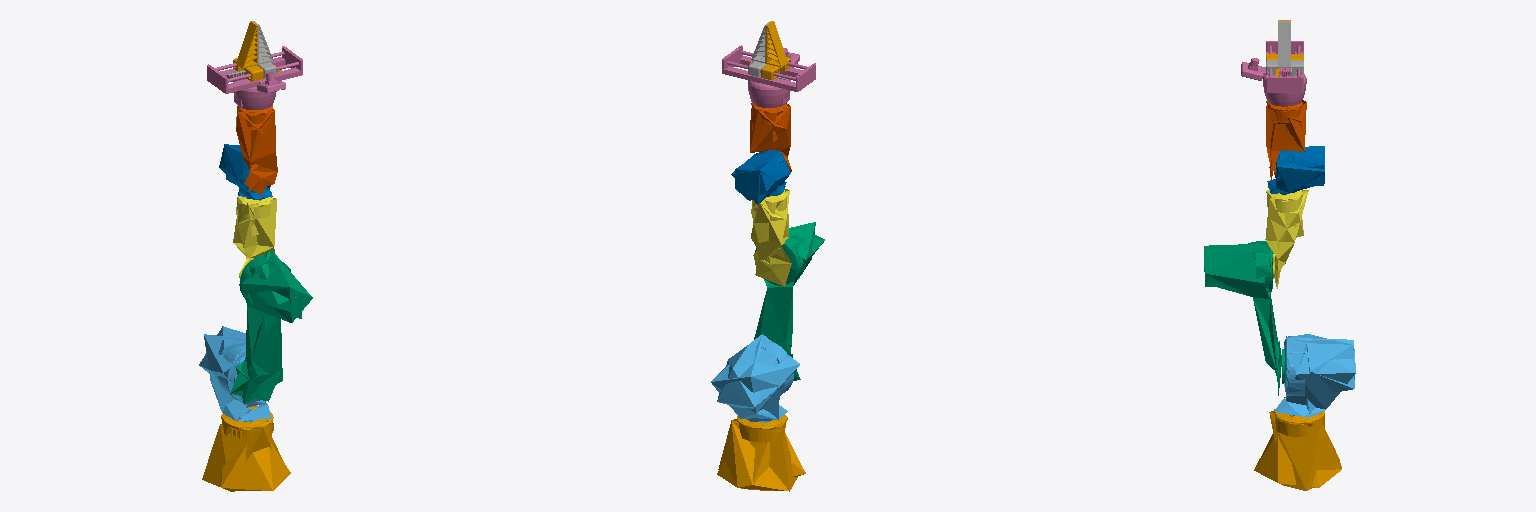
robot.urdf — grip:
<?xml version="1.0"?>
<!-- Generated by cad/urdf.py from the GRIP CAD. Do not edit by hand. -->
<robot name="grip">
  <link name="base_link">
    <inertial><origin xyz="1.29996e-05 -2.06403e-05 0.0679574"/><mass value="0.9536"/>
      <inertia ixx="0.00129185" ixy="-1.858e-07" ixz="2.82899e-06" iyy="0.00129247" iyz="3.15067e-06" izz="0.000925925"/></inertial>
    <visual><origin xyz="-0 -0 -0"/><geometry><mesh filename="meshes/base_link.stl" scale="0.001 0.001 0.001"/></geometry></visual>
    <collision><origin xyz="-0 -0 -0"/><geometry><mesh filename="meshes/base_link.stl" scale="0.001 0.001 0.001"/></geometry></collision>
  </link>
  <link name="turret">
    <inertial><origin xyz="0.00010235 0.0197137 0.195869"/><mass value="1.4109"/>
      <inertia ixx="0.00223301" ixy="4.1106e-06" ixz="-6.31158e-07" iyy="0.00195646" iyz="-0.00010455" izz="0.0017922"/></inertial>
    <visual><origin xyz="-0 -0 -0"/><geometry><mesh filename="meshes/turret.stl" scale="0.001 0.001 0.001"/></geometry></visual>
    <collision><origin xyz="-0 -0 -0"/><geometry><mesh filename="meshes/turret.stl" scale="0.001 0.001 0.001"/></geometry></collision>
  </link>
  <link name="upper_arm">
    <inertial><origin xyz="2.40801e-05 -0.0522133 0.163299"/><mass value="1.0554"/>
      <inertia ixx="0.00527616" ixy="-1.75393e-08" ixz="-5.92128e-07" iyy="0.00450346" iyz="0.0013512" izz="0.00147447"/></inertial>
    <visual><origin xyz="-0 0.03 -0.2"/><geometry><mesh filename="meshes/upper_arm.stl" scale="0.001 0.001 0.001"/></geometry></visual>
    <collision><origin xyz="-0 0.03 -0.2"/><geometry><mesh filename="meshes/upper_arm.stl" scale="0.001 0.001 0.001"/></geometry></collision>
  </link>
  <link name="forearm">
    <inertial><origin xyz="1.9918e-05 0.0146561 0.0944387"/><mass value="0.4897"/>
      <inertia ixx="0.000839341" ixy="1.38187e-07" ixz="8.10155e-08" iyy="0.000826591" iyz="-0.000108881" izz="0.000233217"/></inertial>
    <visual><origin xyz="-0 0.042 -0.387"/><geometry><mesh filename="meshes/forearm.stl" scale="0.001 0.001 0.001"/></geometry></visual>
    <collision><origin xyz="-0 0.042 -0.387"/><geometry><mesh filename="meshes/forearm.stl" scale="0.001 0.001 0.001"/></geometry></collision>
  </link>
  <link name="wrist_yoke">
    <inertial><origin xyz="2.5881e-05 0.0194151 0.0375499"/><mass value="0.4586"/>
      <inertia ixx="0.000306849" ixy="-5.22134e-08" ixz="2.92491e-07" iyy="0.000245727" iyz="-2.19731e-05" izz="0.000259257"/></inertial>
    <visual><origin xyz="-0 0.025 -0.532"/><geometry><mesh filename="meshes/wrist_yoke.stl" scale="0.001 0.001 0.001"/></geometry></visual>
    <collision><origin xyz="-0 0.025 -0.532"/><geometry><mesh filename="meshes/wrist_yoke.stl" scale="0.001 0.001 0.001"/></geometry></collision>
  </link>
  <link name="wrist_link">
    <inertial><origin xyz="1.02851e-05 0.0170718 0.084359"/><mass value="0.4609"/>
      <inertia ixx="0.00045475" ixy="1.33768e-07" ixz="-8.43876e-08" iyy="0.000448344" iyz="-3.44325e-05" izz="0.000205217"/></inertial>
    <visual><origin xyz="-0 0.043 -0.572"/><geometry><mesh filename="meshes/wrist_link.stl" scale="0.001 0.001 0.001"/></geometry></visual>
    <collision><origin xyz="-0 0.043 -0.572"/><geometry><mesh filename="meshes/wrist_link.stl" scale="0.001 0.001 0.001"/></geometry></collision>
  </link>
  <link name="tool">
    <inertial><origin xyz="-0.00209797 -0.00440401 0.0427588"/><mass value="0.2572"/>
      <inertia ixx="0.000291774" ixy="2.36799e-06" ixz="-1.09405e-05" iyy="0.000469669" iyz="1.76822e-05" izz="0.000476755"/></inertial>
    <visual><origin xyz="-0 0.025 -0.7"/><geometry><mesh filename="meshes/tool.stl" scale="0.001 0.001 0.001"/></geometry></visual>
    <collision><origin xyz="-0 0.025 -0.7"/><geometry><mesh filename="meshes/tool.stl" scale="0.001 0.001 0.001"/></geometry></collision>
  </link>
  <link name="jaw_a">
    <inertial><origin xyz="0.0101033 0.00110157 0.0753741"/><mass value="0.0480"/>
      <inertia ixx="3.8278e-05" ixy="8.82633e-07" ixz="2.16238e-07" iyy="2.61007e-05" iyz="1.05274e-06" izz="2.20661e-05"/></inertial>
    <visual><origin xyz="-0 0.025 -0.7"/><geometry><mesh filename="meshes/jaw_a.stl" scale="0.001 0.001 0.001"/></geometry></visual>
    <collision><origin xyz="-0 0.025 -0.7"/><geometry><mesh filename="meshes/jaw_a.stl" scale="0.001 0.001 0.001"/></geometry></collision>
  </link>
  <link name="jaw_b">
    <inertial><origin xyz="-0.0101033 -0.00110157 0.0753741"/><mass value="0.0480"/>
      <inertia ixx="3.8278e-05" ixy="8.82638e-07" ixz="-2.16238e-07" iyy="2.61007e-05" iyz="-1.05265e-06" izz="2.20661e-05"/></inertial>
    <visual><origin xyz="-0 0.025 -0.7"/><geometry><mesh filename="meshes/jaw_b.stl" scale="0.001 0.001 0.001"/></geometry></visual>
    <collision><origin xyz="-0 0.025 -0.7"/><geometry><mesh filename="meshes/jaw_b.stl" scale="0.001 0.001 0.001"/></geometry></collision>
  </link>
  <joint name="j1" type="revolute">
    <parent link="base_link"/><child link="turret"/>
    <origin xyz="0 0 0"/><axis xyz="0 0 1"/>
    <limit lower="-2.96706" upper="2.96706" effort="13.0" velocity="2.5"/>
  </joint>
  <joint name="j2" type="revolute">
    <parent link="turret"/><child link="upper_arm"/>
    <origin xyz="0 -0.03 0.2"/><axis xyz="0 1 0"/>
    <limit lower="-1.04720" upper="1.04720" effort="30.0" velocity="2.1"/>
  </joint>
  <joint name="j3" type="revolute">
    <parent link="upper_arm"/><child link="forearm"/>
    <origin xyz="0 -0.012 0.187"/><axis xyz="0 1 0"/>
    <limit lower="-2.09440" upper="2.09440" effort="13.0" velocity="2.5"/>
  </joint>
  <joint name="j4" type="revolute">
    <parent link="forearm"/><child link="wrist_yoke"/>
    <origin xyz="0 0.017 0.145"/><axis xyz="0 0 1"/>
    <limit lower="-2.96706" upper="2.96706" effort="3.1" velocity="4.2"/>
  </joint>
  <joint name="j5" type="revolute">
    <parent link="wrist_yoke"/><child link="wrist_link"/>
    <origin xyz="0 -0.018 0.04"/><axis xyz="0 1 0"/>
    <limit lower="-1.74533" upper="1.74533" effort="3.1" velocity="4.2"/>
  </joint>
  <joint name="j6" type="revolute">
    <parent link="wrist_link"/><child link="tool"/>
    <origin xyz="0 0.018 0.128"/><axis xyz="0 0 1"/>
    <limit lower="-2.96706" upper="2.96706" effort="3.1" velocity="4.2"/>
  </joint>
  <joint name="jaw_a" type="prismatic">
    <parent link="tool"/><child link="jaw_a"/>
    <origin xyz="0 0 0"/><axis xyz="1 0 0"/>
    <limit lower="0" upper="0.04" effort="30.0" velocity="0.05"/>
  </joint>
  <joint name="jaw_b" type="prismatic">
    <parent link="tool"/><child link="jaw_b"/>
    <origin xyz="0 0 0"/><axis xyz="-1 0 0"/>
    <limit lower="0" upper="0.04" effort="30.0" velocity="0.05"/>
    <mimic joint="jaw_a" multiplier="1" offset="0"/>
  </joint>
  <link name="wrist_camera_optical"/>
  <joint name="wrist_camera" type="fixed">
    <parent link="tool"/><child link="wrist_camera_optical"/>
    <origin xyz="0 -0.055 0.054" rpy="-0.26180 0 0"/>
  </joint>
</robot>

--- What the picture shows (computed from the rendered views, not written in the file) ---
The picture shows the robot from 3 angles, left to right: view 1: azimuth 30°, elevation 25°; view 2: azimuth 150°, elevation 25°; view 3: azimuth 270°, elevation 25°; orthographic projection.
Robot: grip — 10 links, 9 joints (6 revolute, 2 prismatic, 1 fixed); root link base_link; default pose: every joint at zero.
Visible links, largest first — view 1: upper_arm, base_link, turret, wrist_link, tool, forearm, wrist_yoke, jaw_b, jaw_a; view 2: turret, base_link, upper_arm, forearm, tool, wrist_yoke, wrist_link, jaw_b, jaw_a; view 3: turret, base_link, upper_arm, forearm, wrist_yoke, tool, wrist_link, jaw_a.
Link boxes in pixels (x1,y1,x2,y2): upper_arm: [230, 250, 312, 404]; base_link: [202, 405, 290, 491]; turret: [199, 326, 275, 422]; wrist_link: [236, 105, 277, 194]; tool: [207, 46, 302, 109]; forearm: [233, 195, 276, 277]; wrist_yoke: [219, 144, 272, 199]; jaw_b: [233, 21, 281, 81]; jaw_a: [227, 21, 276, 78]; turret: [711, 334, 799, 422]; base_link: [717, 414, 805, 491]; upper_arm: [754, 222, 824, 380]; forearm: [751, 189, 791, 286]; tool: [722, 45, 815, 107]; wrist_yoke: [731, 150, 790, 204]; wrist_link: [750, 103, 791, 171]; jaw_b: [750, 21, 790, 79]; jaw_a: [748, 21, 788, 80]; turret: [1274, 334, 1355, 417]; base_link: [1254, 409, 1341, 490]; upper_arm: [1204, 241, 1284, 395]; forearm: [1265, 189, 1308, 288]; wrist_yoke: [1267, 146, 1324, 194]; tool: [1241, 41, 1306, 106]; wrist_link: [1266, 100, 1306, 181]; jaw_a: [1266, 21, 1303, 76].
Size in the robot's own frame: 0.1544 by 0.2586 by 0.8446 metres.
Meshes: 9 distinct files referenced, 9 mesh visuals loaded (9 binary STL).
